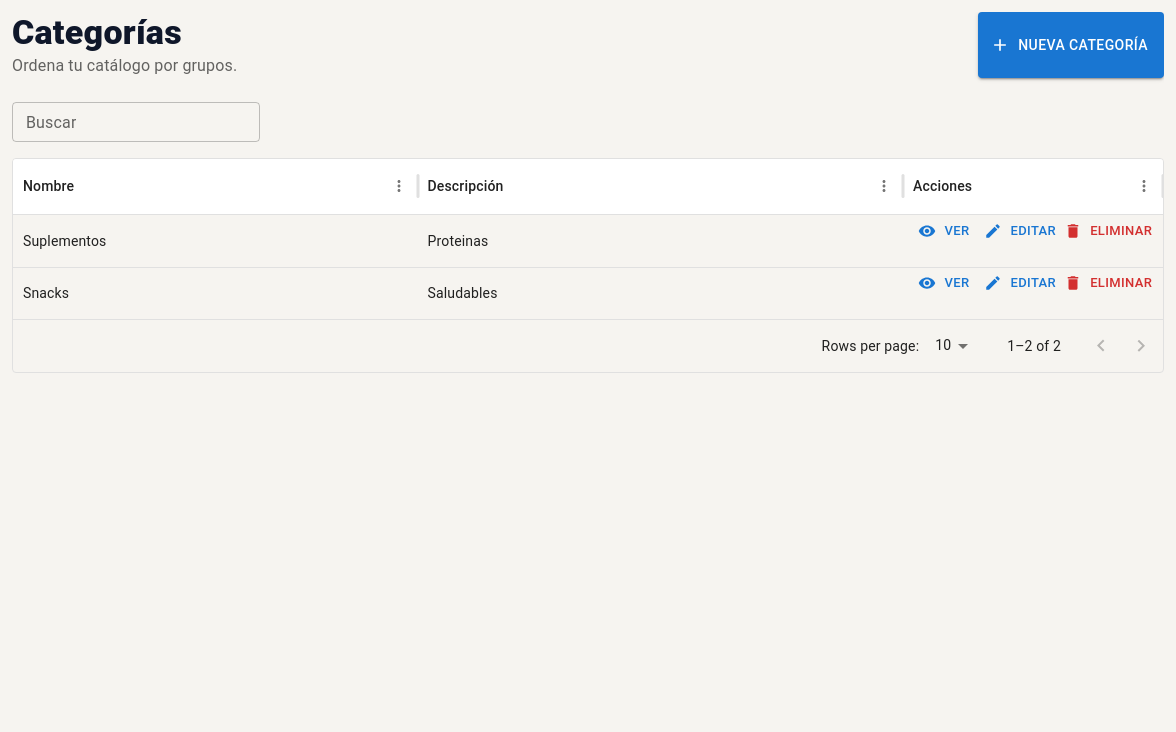
Test: CategoriesList page › blocks deletion when the role cannot delete
Expected: the text "Suplementos" is shown, 23,233 -> 106,249
Click the button "Eliminar" in the row of "Suplementos": point(1109, 231) 1066,216 -> 1153,247
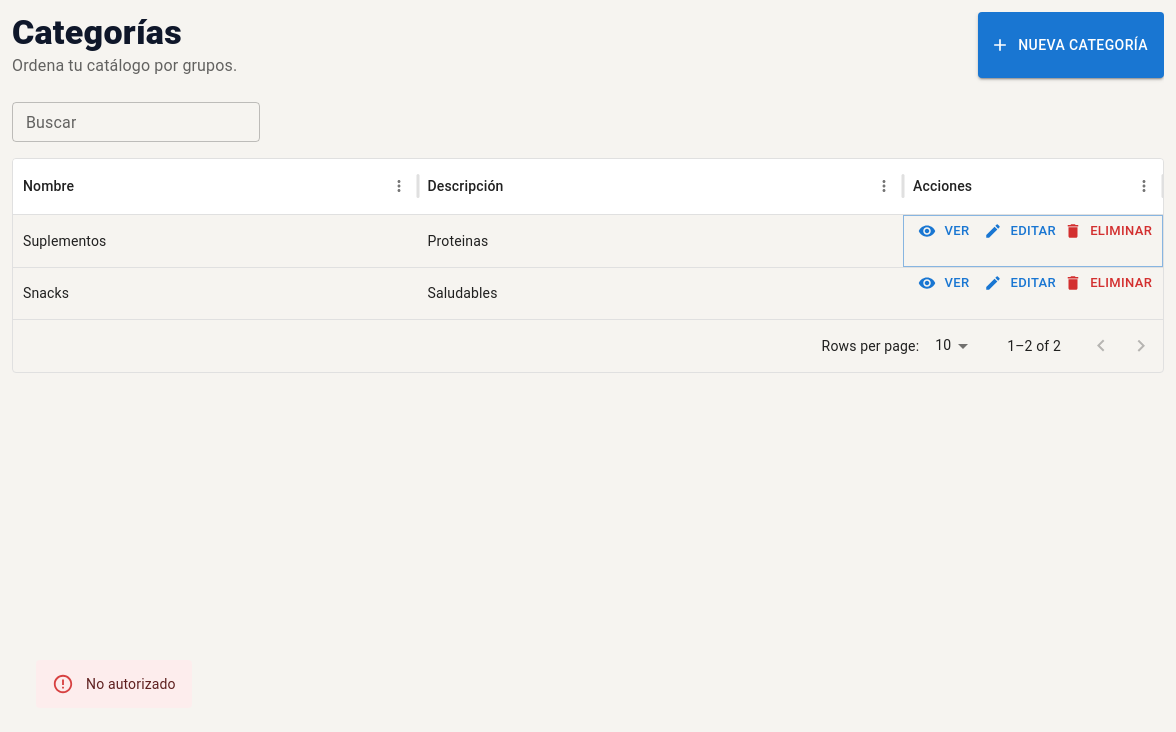
Now the text "No autorizado" is shown, box 86,676 -> 176,692
